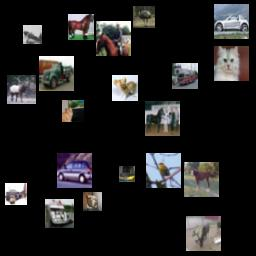airplane: (5, 183, 27, 205), (23, 25, 42, 44)
automobile: (57, 153, 92, 188), (214, 4, 249, 39)
bird: (146, 153, 181, 188), (133, 6, 155, 28)
cat: (214, 46, 249, 81), (112, 75, 138, 101), (62, 100, 84, 122), (83, 192, 102, 211)
deer: (186, 216, 221, 251), (7, 75, 36, 104)
ship: (45, 199, 74, 228), (119, 166, 135, 182)
truck: (39, 56, 74, 91), (172, 63, 198, 89)
